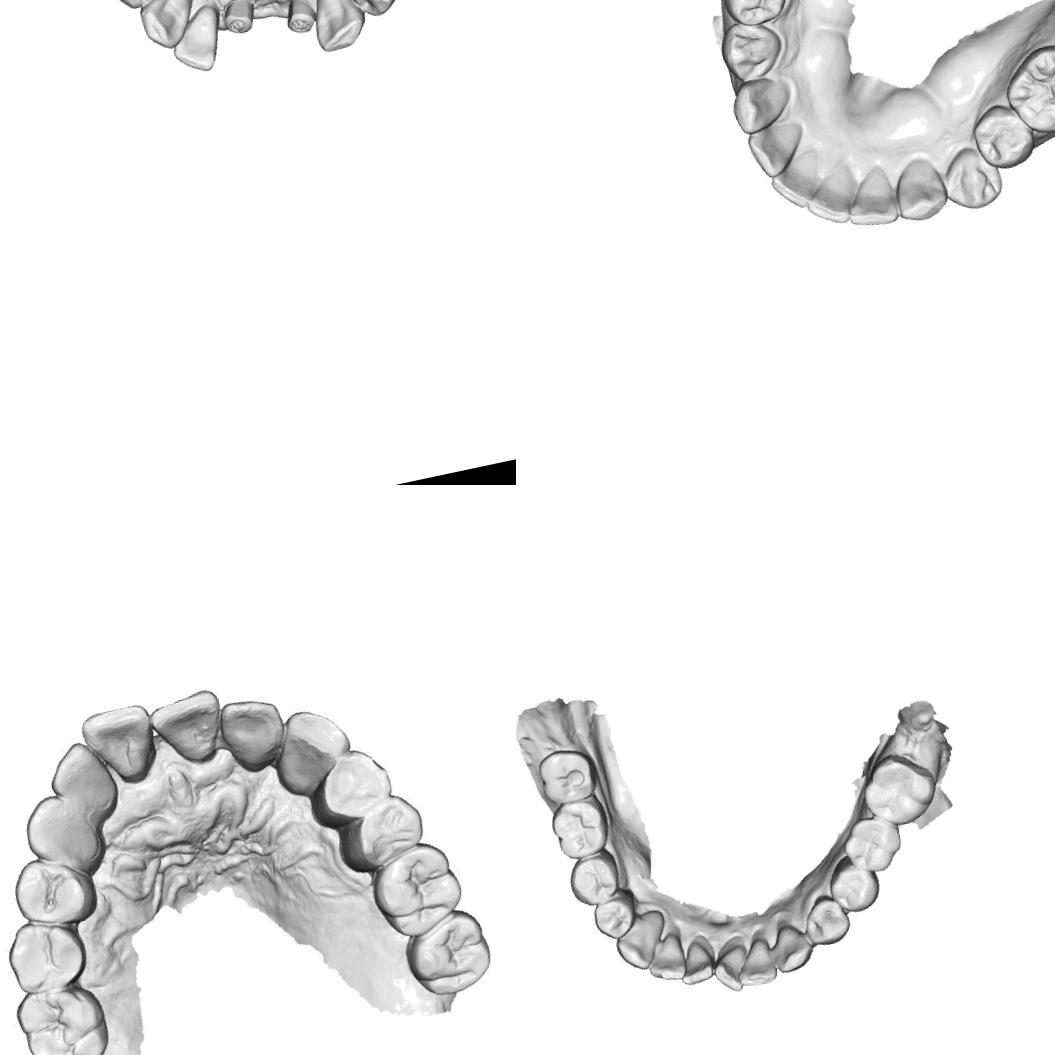canine: (264, 702, 352, 800), (20, 787, 106, 876), (608, 906, 676, 976), (729, 70, 801, 133), (888, 152, 949, 224), (133, 0, 204, 54), (304, 0, 373, 55), (767, 919, 816, 976)
implant: (216, 0, 260, 37), (278, 0, 320, 38)
incisor: (151, 686, 232, 773), (79, 700, 156, 784), (46, 736, 122, 821), (221, 695, 293, 772), (164, 3, 230, 78), (764, 150, 833, 212), (840, 169, 902, 235), (800, 162, 861, 225), (748, 121, 805, 177), (729, 934, 781, 991), (641, 930, 692, 986), (673, 935, 722, 989), (708, 940, 754, 996)
molar: (376, 842, 466, 940), (406, 910, 495, 999), (854, 745, 943, 832), (14, 980, 112, 1055), (996, 43, 1055, 139), (836, 809, 909, 879), (546, 794, 616, 865), (533, 742, 602, 809)
premolar: (302, 741, 402, 838), (2, 918, 90, 996), (346, 793, 428, 869), (10, 854, 89, 930), (717, 16, 786, 83), (821, 850, 885, 918), (968, 102, 1032, 169), (943, 148, 1004, 209), (563, 851, 625, 910), (798, 890, 855, 950), (588, 889, 643, 944), (715, 0, 790, 26), (341, 0, 410, 23), (104, 0, 171, 14)
